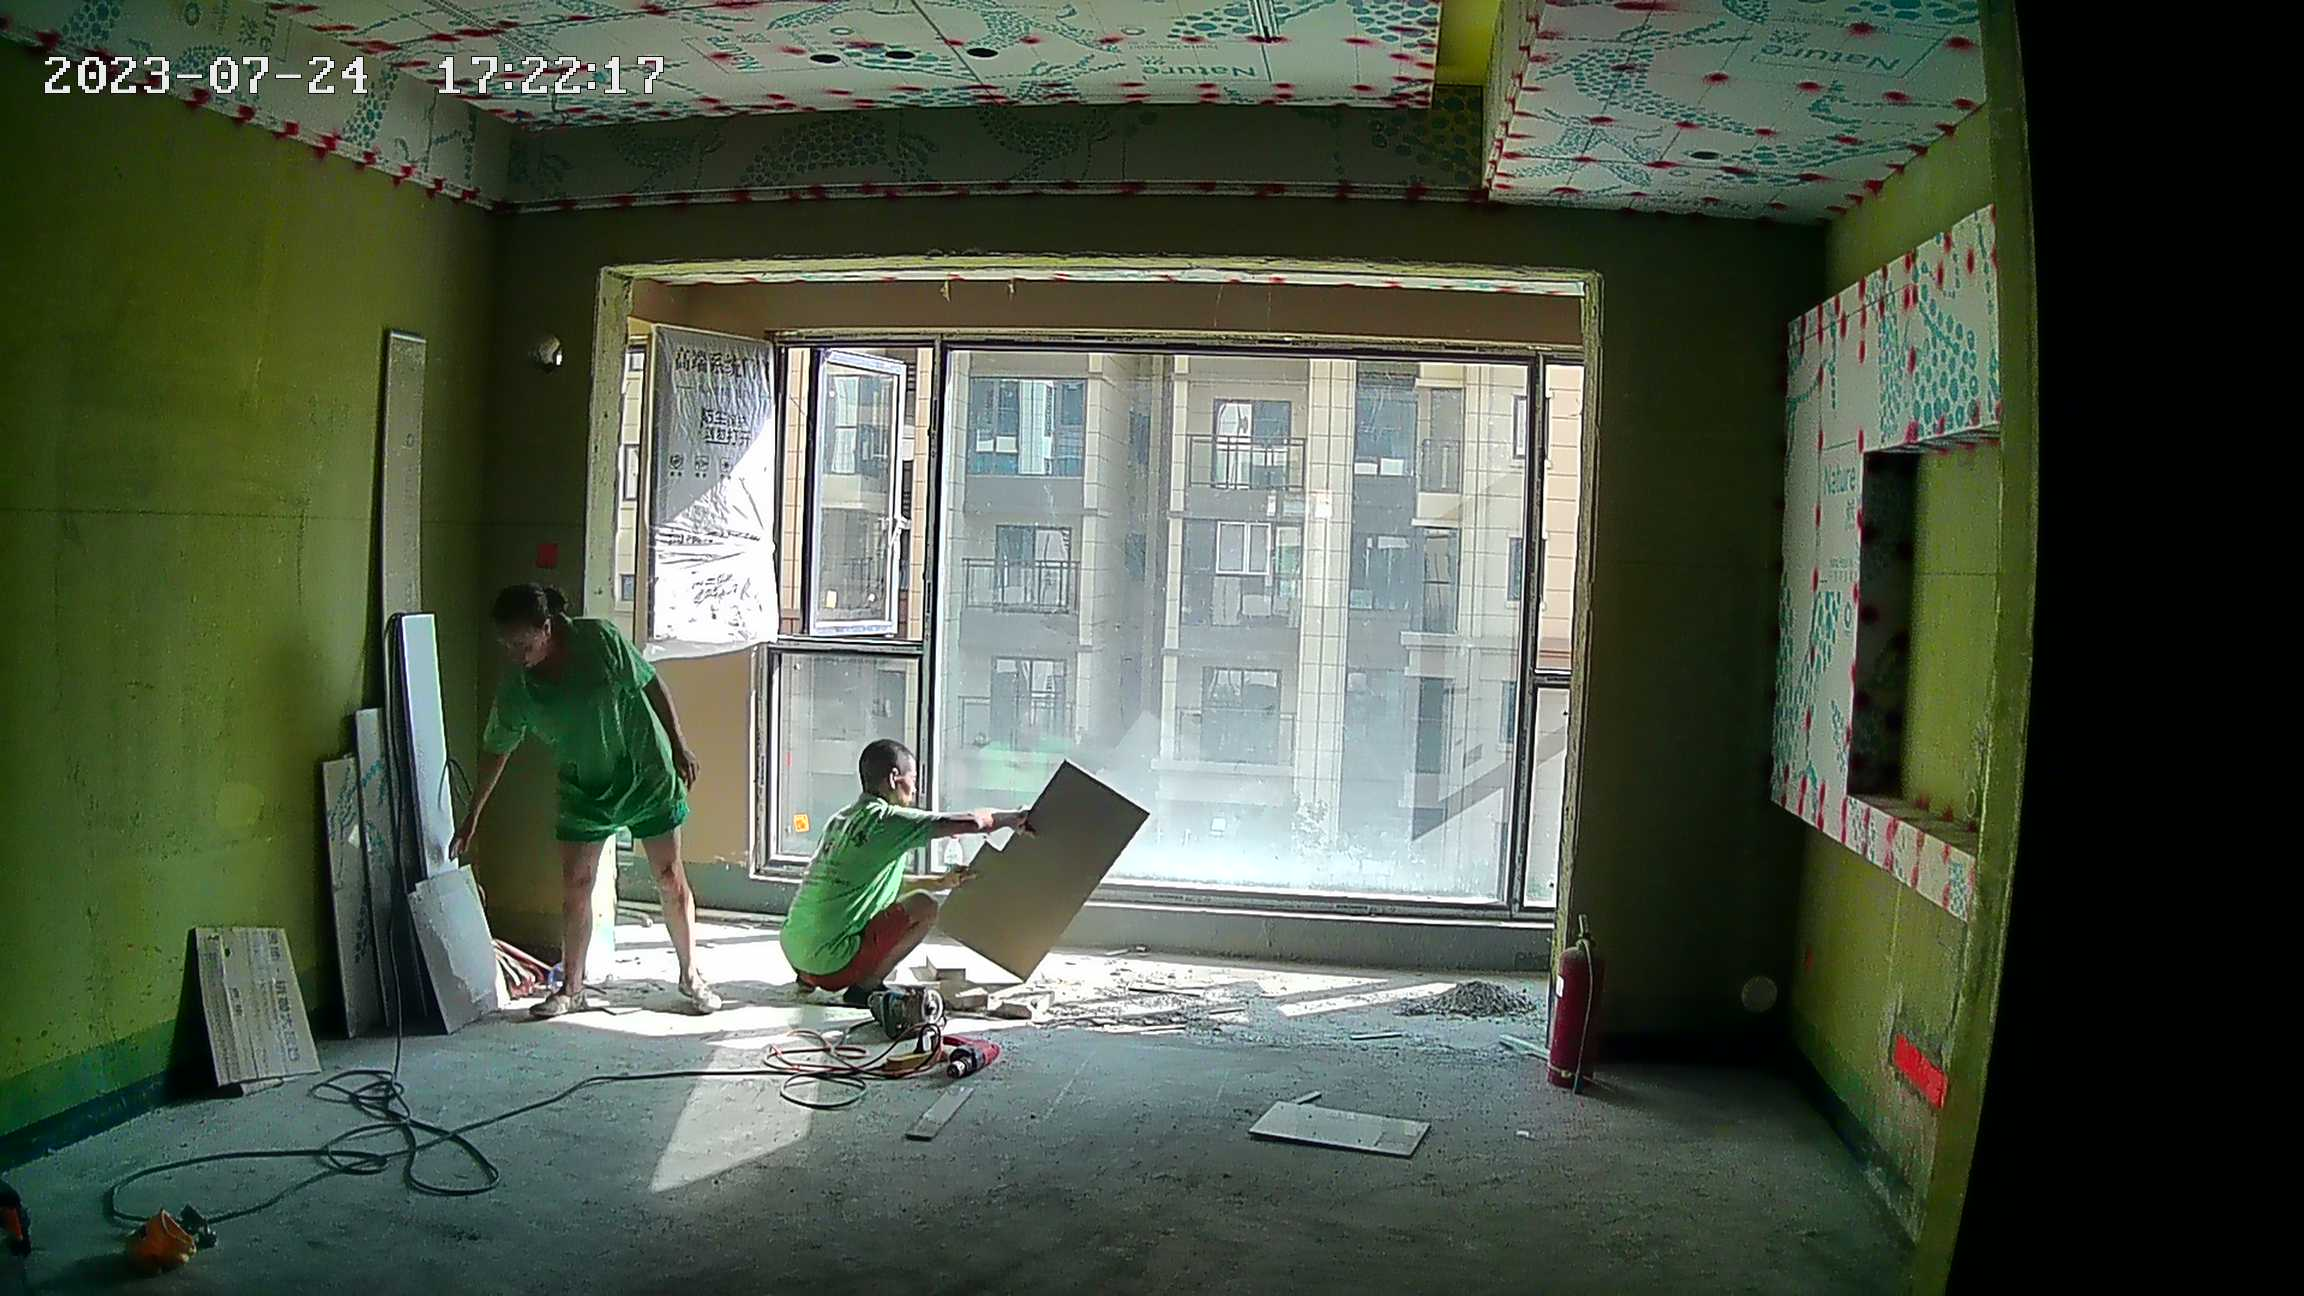people: (458, 586, 723, 1015), (785, 737, 1038, 1005)
window: (763, 347, 1575, 914)
